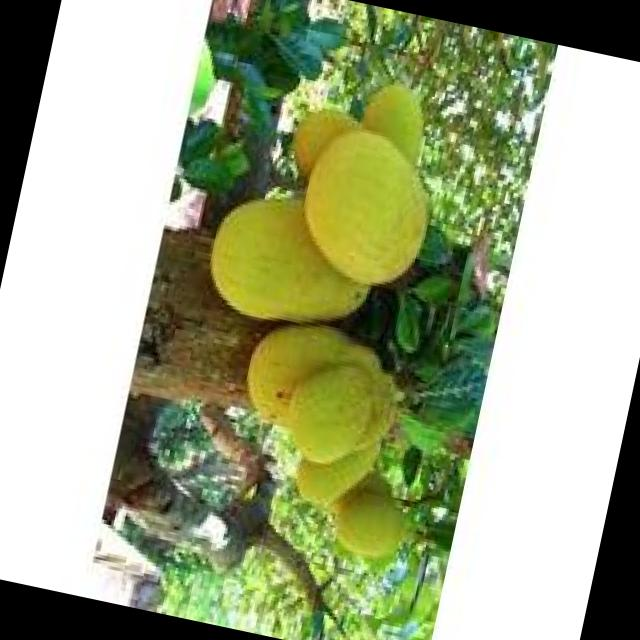Fruit: (195, 290, 438, 556), (246, 71, 470, 311), (179, 162, 426, 364)
